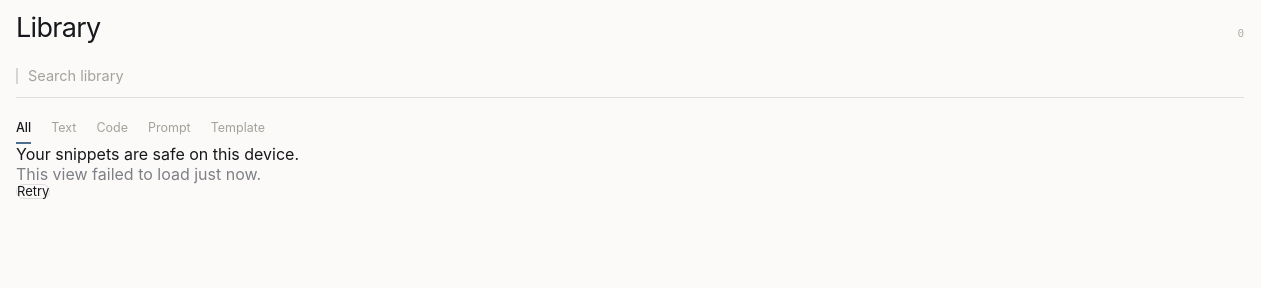
Test: mobile LibraryPage › says the data is safe first when the list fails, and can retry
Expected: the text "Your snippets are safe on this device." is shown, [16, 144, 299, 164]
Click the button "Retry".
click(33, 191)  # box [16, 184, 50, 199]
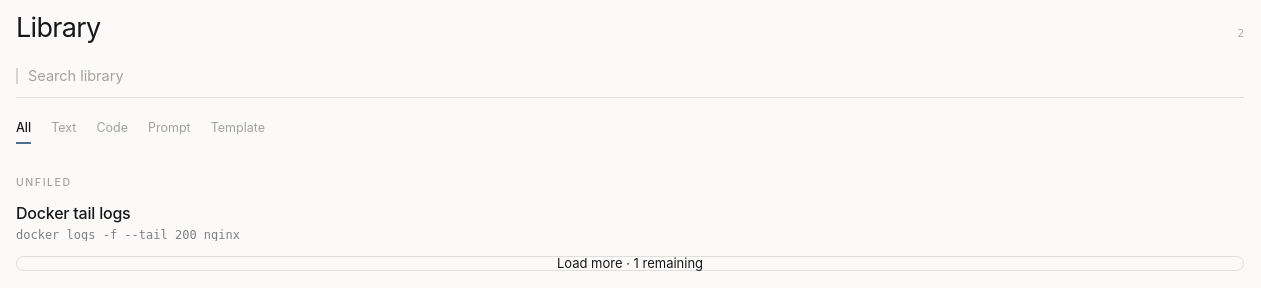
Now the text "Docker tail logs" is shown, box [16, 203, 130, 223]
